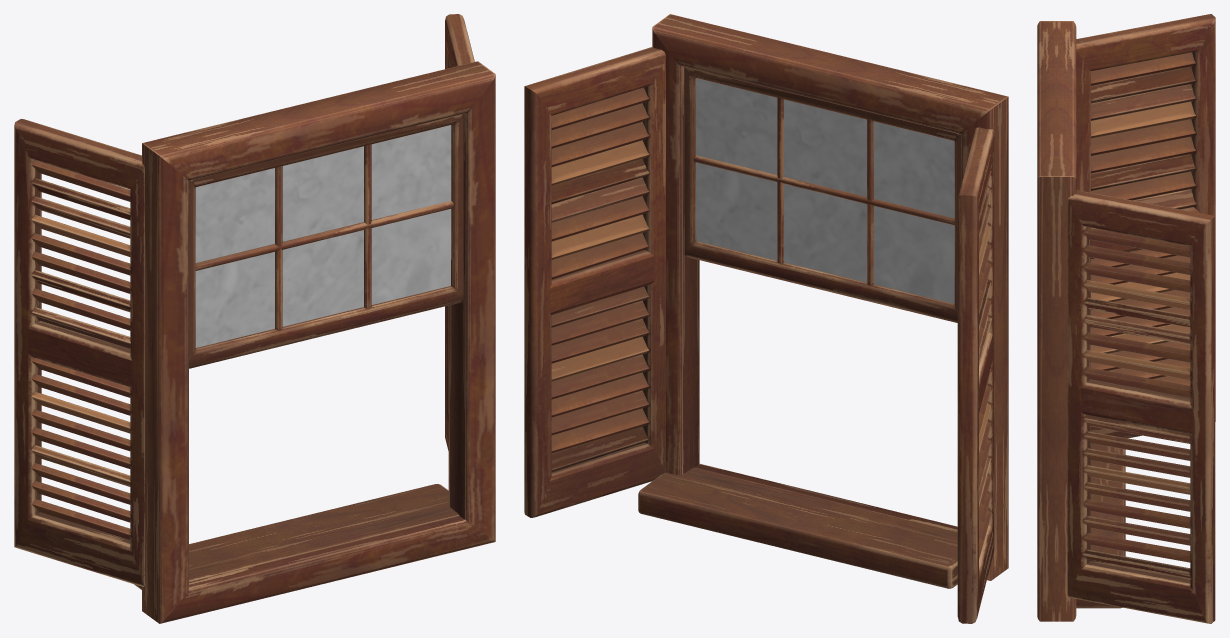
Rendered from SM_WindowsWood.fbx.
3 renders of one model, left to right at view 1: azimuth 30°, elevation 25°; view 2: azimuth 150°, elevation 25°; view 3: azimuth 270°, elevation 25°, orthographic. The views are drawn at different scales.
Visible parts, largest first — view 1: SM_WindowsWood_LOD0; view 2: SM_WindowsWood_LOD0; view 3: SM_WindowsWood_LOD0.
Boxes of the visible parts, left/top/right/bottom form: SM_WindowsWood_LOD0: left=14, top=14, right=495, bottom=623; SM_WindowsWood_LOD0: left=524, top=14, right=1008, bottom=623; SM_WindowsWood_LOD0: left=1037, top=14, right=1215, bottom=623.
Size of the model in its own units: 122 by 44.21 by 122.
